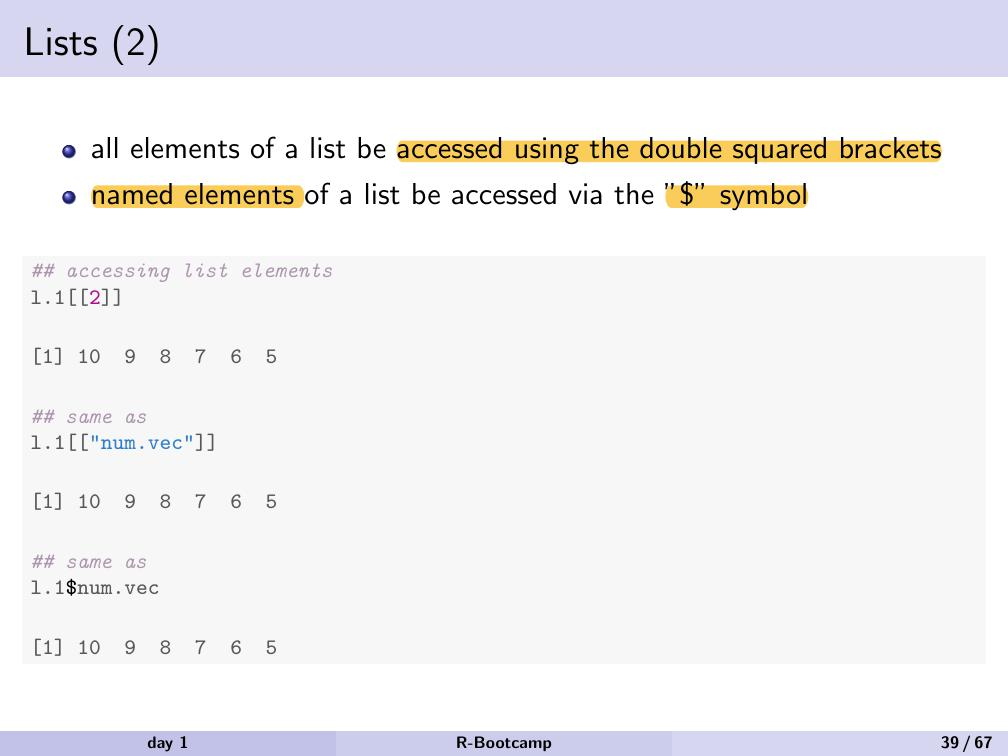Title: (16, 19, 164, 72)
